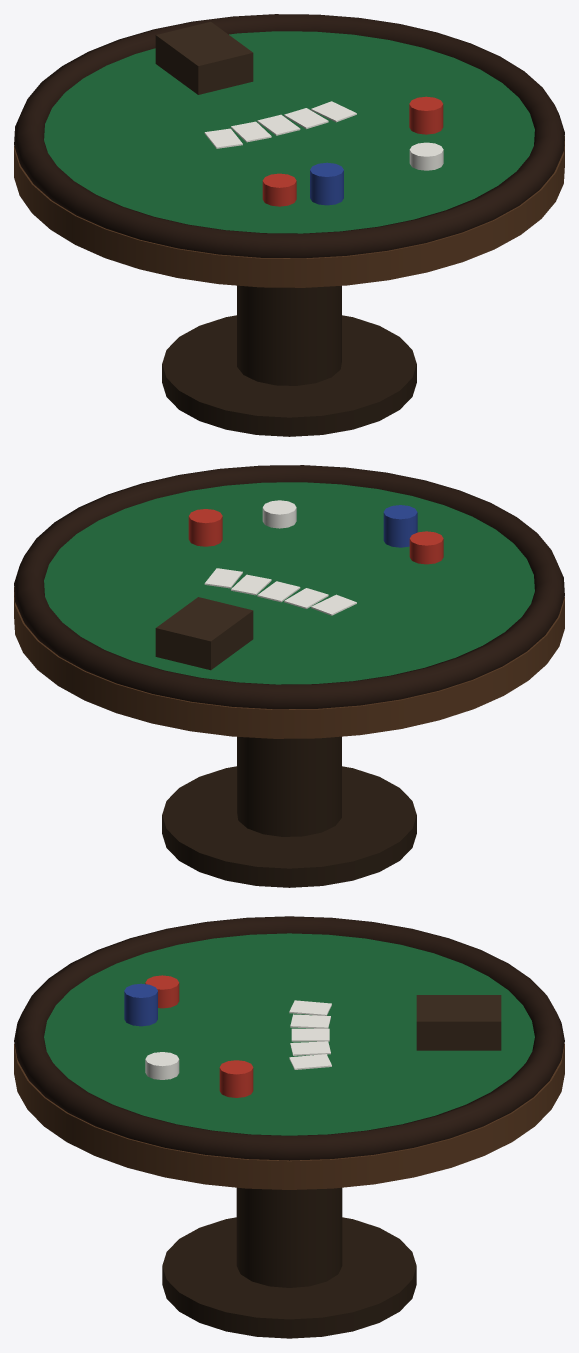
File: card-table.glb
3 renders of one model, top to bottom at view 1: azimuth 30°, elevation 25°; view 2: azimuth 150°, elevation 25°; view 3: azimuth 270°, elevation 25°, orthographic.
Parts seen in each view (by area): view 1: part-felt, part-pedestal, part-cushion, part-rail, part-shoe, part-card, part-chip-0, part-chip-1, part-chip-2; view 2: part-felt, part-cushion, part-pedestal, part-rail, part-shoe, part-card, part-chip-0, part-chip-1, part-chip-2; view 3: part-felt, part-cushion, part-pedestal, part-rail, part-shoe, part-card, part-chip-0, part-chip-1, part-chip-2.
Boxes of the visible parts, x1=… form: part-felt: x1=44, y1=31, x2=534, y2=233; part-pedestal: x1=162, y1=285, x2=416, y2=436; part-cushion: x1=14, y1=14, x2=564, y2=258; part-rail: x1=14, y1=136, x2=564, y2=287; part-shoe: x1=155, y1=21, x2=253, y2=94; part-card: x1=204, y1=101, x2=356, y2=148; part-chip-0: x1=262, y1=96, x2=443, y2=206; part-chip-1: x1=310, y1=162, x2=343, y2=205; part-chip-2: x1=409, y1=142, x2=443, y2=170; part-felt: x1=44, y1=482, x2=534, y2=684; part-cushion: x1=14, y1=465, x2=564, y2=709; part-pedestal: x1=162, y1=736, x2=416, y2=887; part-rail: x1=14, y1=587, x2=564, y2=738; part-shoe: x1=155, y1=597, x2=253, y2=670; part-card: x1=204, y1=568, x2=356, y2=615; part-chip-0: x1=188, y1=509, x2=443, y2=564; part-chip-1: x1=383, y1=505, x2=417, y2=547; part-chip-2: x1=262, y1=500, x2=296, y2=528; part-felt: x1=44, y1=933, x2=534, y2=1135; part-cushion: x1=14, y1=916, x2=564, y2=1160; part-pedestal: x1=162, y1=1187, x2=416, y2=1338; part-rail: x1=14, y1=1044, x2=564, y2=1189; part-shoe: x1=416, y1=995, x2=501, y2=1050; part-card: x1=289, y1=1000, x2=331, y2=1069; part-chip-0: x1=145, y1=975, x2=253, y2=1097; part-chip-1: x1=124, y1=983, x2=157, y2=1026; part-chip-2: x1=145, y1=1052, x2=179, y2=1079.
Size of the model in its own units: 52 by 28.8 by 52.
